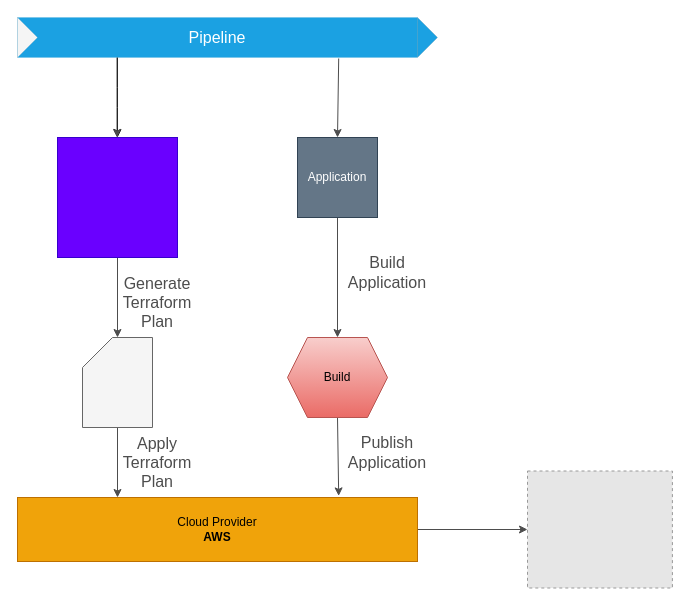
The diagram is 690 pixels wide and 605 high, and some of its shapes have lost their labels. Grey dashed boxes stand in for pictures. The shapes that lost their labels are listed below. From the top down, each one's centre as x and y in pixels, then its label:
pixel 117 197: Terraform Module AWS , Azure, GCP
pixel 117 382: Terraform Execution Plan
